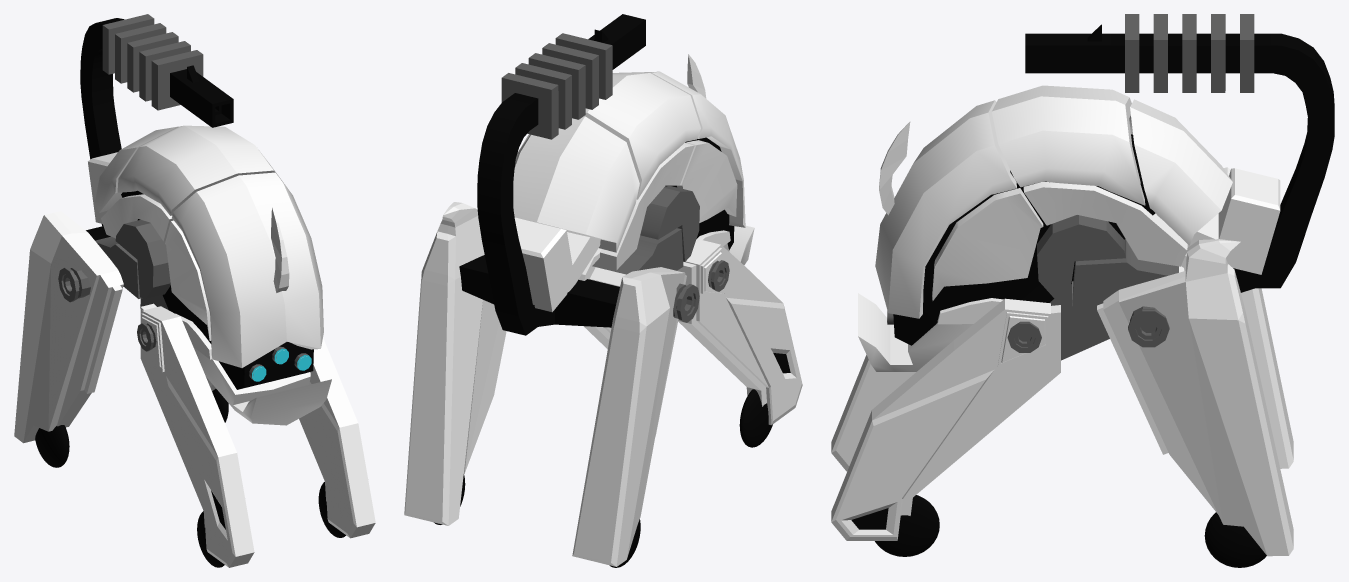
Rendered from monster2_withColor (3).fbx.
3 views of the same model, side by side, from view 1: azimuth 30°, elevation 25°; view 2: azimuth 150°, elevation 25°; view 3: azimuth 270°, elevation 25° (orthographic). The views are drawn at different scales.
Visible parts, largest first — view 1: Cube.001, Cube.006, Cube.007, Cube.002, Sphere.002, Cube, Sphere; view 2: Cube.001, Cube.008, Cube.006, Cube.007, Sphere; view 3: Cube.001, Cube.008, Cube.002, Cube.006, Cube.007, Sphere.001, Sphere.003, Cube.
Part boxes in pixels (x1=…): Cube.001: x1=80, y1=14, x2=331, y2=425; Cube.006: x1=14, y1=211, x2=123, y2=443; Cube.007: x1=137, y1=303, x2=254, y2=567; Cube.002: x1=299, y1=338, x2=375, y2=538; Sphere.002: x1=35, y1=425, x2=69, y2=467; Cube: x1=271, y1=207, x2=289, y2=292; Sphere: x1=197, y1=511, x2=224, y2=567; Cube.001: x1=459, y1=14, x2=754, y2=335; Cube.008: x1=404, y1=202, x2=506, y2=525; Cube.006: x1=572, y1=267, x2=699, y2=566; Cube.007: x1=677, y1=239, x2=802, y2=425; Sphere: x1=739, y1=389, x2=772, y2=447; Cube.001: x1=858, y1=14, x2=1334, y2=371; Cube.008: x1=1097, y1=239, x2=1293, y2=556; Cube.002: x1=831, y1=298, x2=1060, y2=540; Cube.006: x1=1223, y1=167, x2=1293, y2=468; Cube.007: x1=831, y1=355, x2=915, y2=471; Sphere.001: x1=875, y1=495, x2=939, y2=556; Sphere.003: x1=1204, y1=512, x2=1266, y2=567; Cube: x1=879, y1=121, x2=910, y2=215.
Size of the model in its own units: 547 by 1072 by 986.
Materials: 1 (1 with a texture image).
